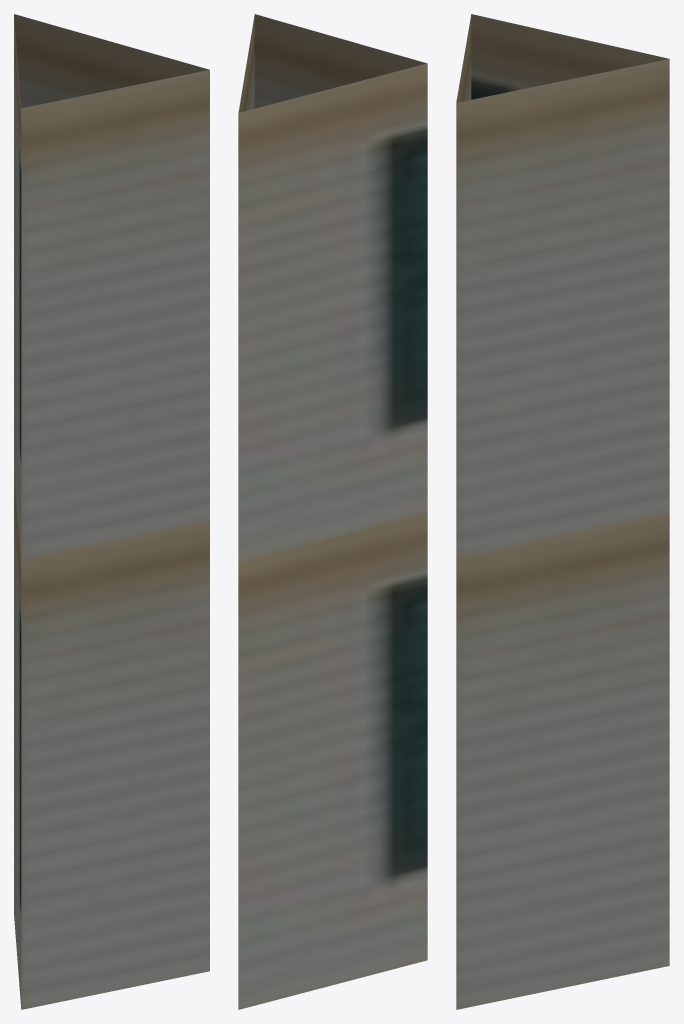
File: ResTex__3140.fbx
The picture shows the model from 3 angles, left to right: view 1: azimuth 30°, elevation 25°; view 2: azimuth 150°, elevation 25°; view 3: azimuth 270°, elevation 25°; orthographic projection.
Parts seen in each view (by area): view 1: CityEngineMaterial_7_m; view 2: CityEngineMaterial_7_m; view 3: CityEngineMaterial_7_m.
Boxes of the visible parts, left/top/right/bottom form: CityEngineMaterial_7_m: left=14, top=14, right=209, bottom=1009; CityEngineMaterial_7_m: left=238, top=14, right=427, bottom=1009; CityEngineMaterial_7_m: left=456, top=14, right=669, bottom=1009.
Size of the model in its own units: 1.26 by 6 by 1.28.
Materials: 1 (1 with a texture image).
